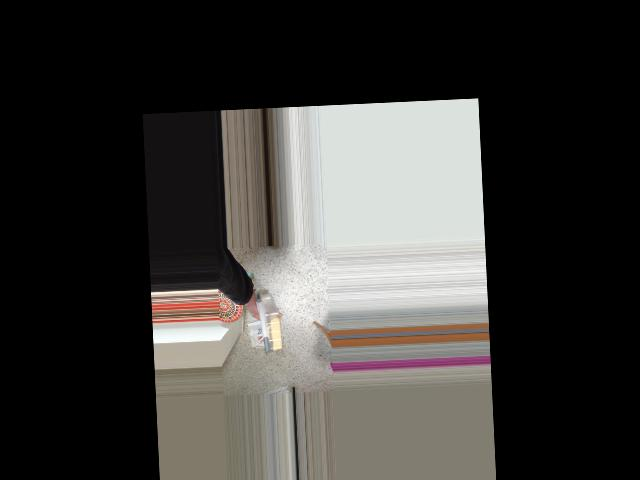cheese: (222, 300, 300, 355)
